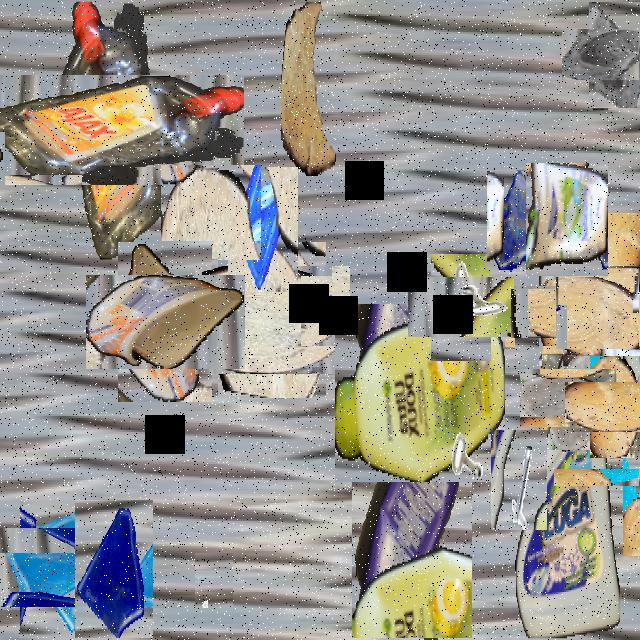glass: (5, 512, 116, 622), (75, 500, 153, 638), (228, 167, 298, 292), (530, 358, 612, 438), (487, 171, 543, 270), (575, 15, 640, 94), (588, 434, 640, 521)
metal: (419, 266, 503, 349), (491, 430, 547, 530), (195, 553, 233, 620)
plastic: (515, 301, 619, 638), (24, 38, 208, 222), (335, 304, 505, 482), (352, 386, 472, 638), (102, 258, 228, 386), (540, 249, 640, 386), (526, 164, 608, 278)
wood: (206, 254, 338, 386), (281, 2, 341, 176), (161, 166, 261, 262), (559, 269, 640, 352), (525, 274, 603, 352), (577, 368, 640, 445)
